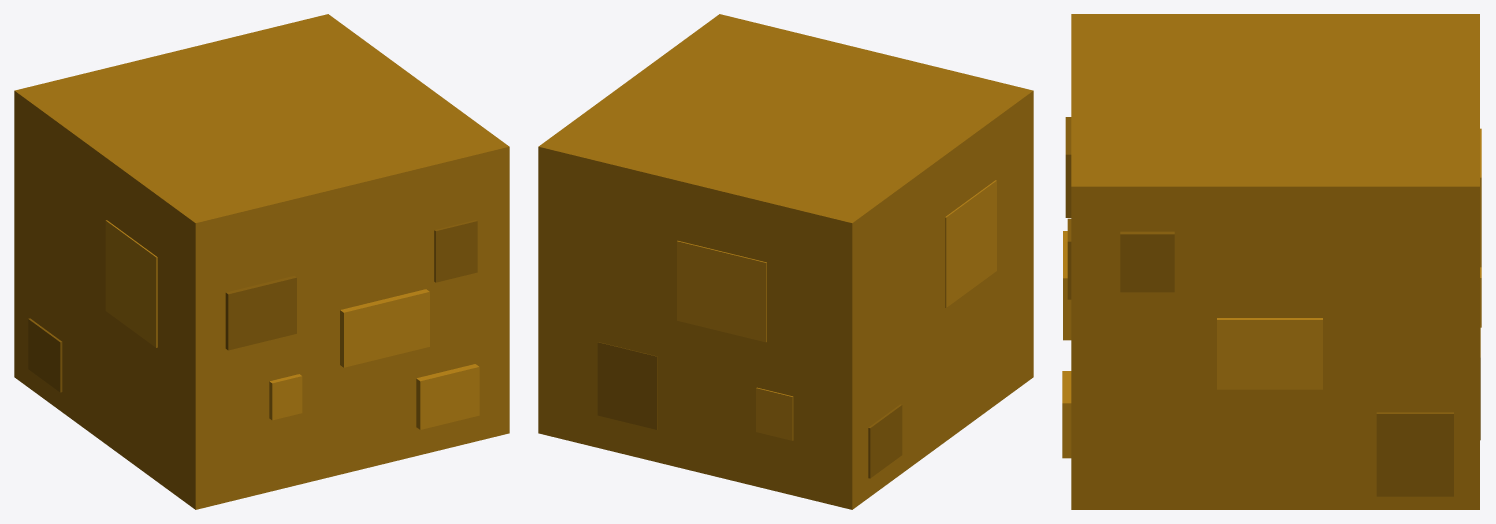
The model's file is Dirt.fbx.
The picture shows the model from 3 angles, left to right: view 1: azimuth 30°, elevation 25°; view 2: azimuth 150°, elevation 25°; view 3: azimuth 270°, elevation 25°; orthographic projection. The views are drawn at different scales.
Visible parts, largest first — view 1: Dirt; view 2: Dirt; view 3: Dirt.
Boxes of the visible parts, left/top/right/bottom form: Dirt: left=14, top=14, right=509, bottom=509; Dirt: left=538, top=14, right=1033, bottom=509; Dirt: left=1062, top=14, right=1481, bottom=509.
Bounding box in the file's own units: 99.58 × 85.07 × 100.
